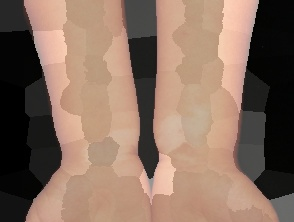vitiligo: (143, 84, 235, 174), (71, 120, 147, 186)
